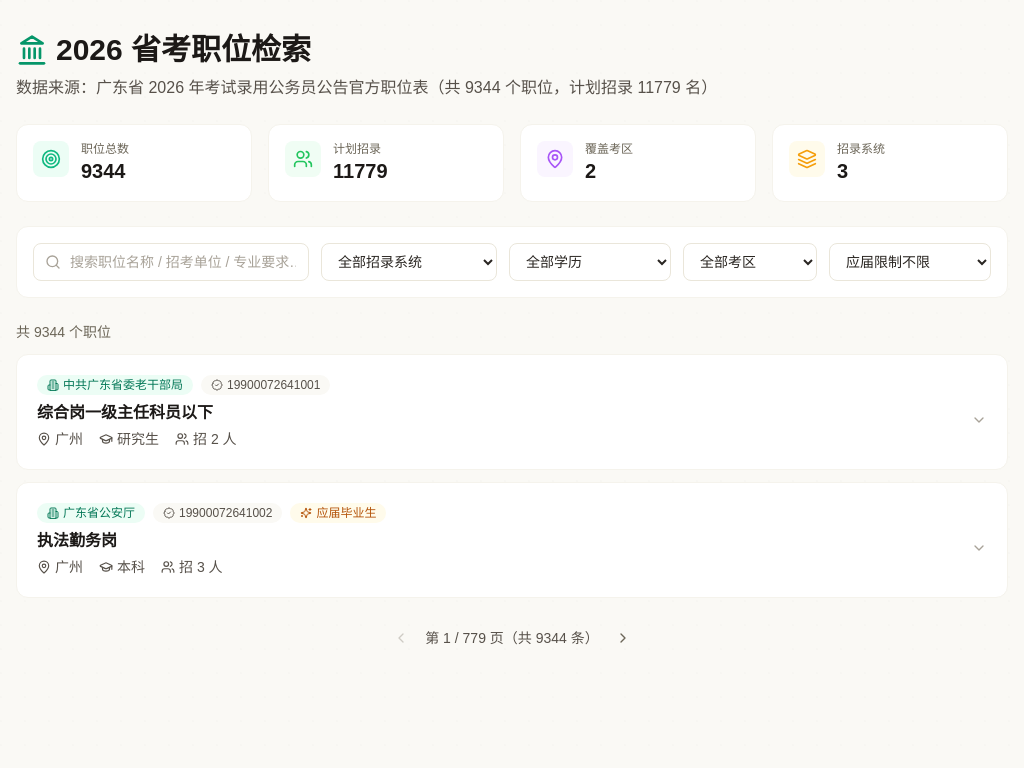
省考职位检索页 › 点击职位卡片展开详情
Expected: the text "研究生专业" is not shown
Click the heading "综合岗一级主任科员以下" at coordinates (125, 412), box [37,404,213,421]
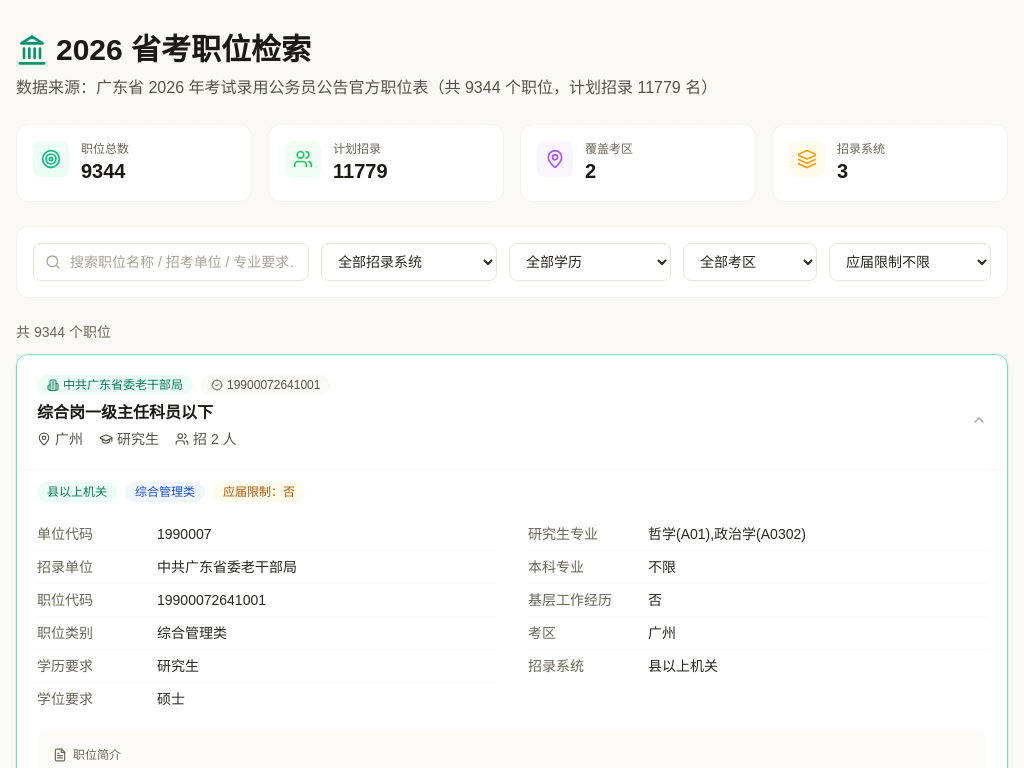
Result: the text "单位代码" is shown at [37,526,93,542]
Result: the text "研究生专业" is shown at [528,526,598,542]
Result: the text "哲学(A01),政治学(A0302)" is shown at [648,524,806,544]
